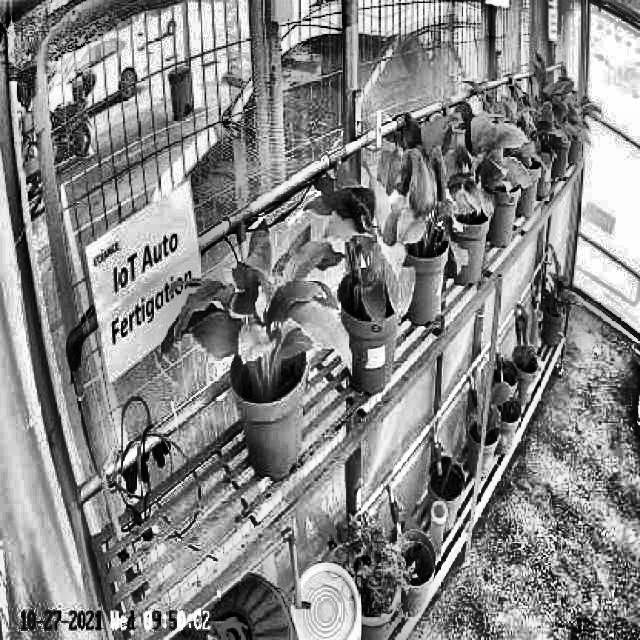plants: (159, 216, 350, 387), (312, 158, 416, 324), (384, 115, 468, 283), (429, 102, 531, 218)
